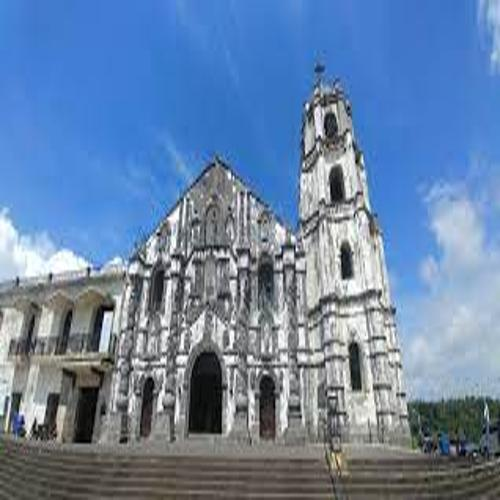Daraga Church: (108, 42, 414, 453)
